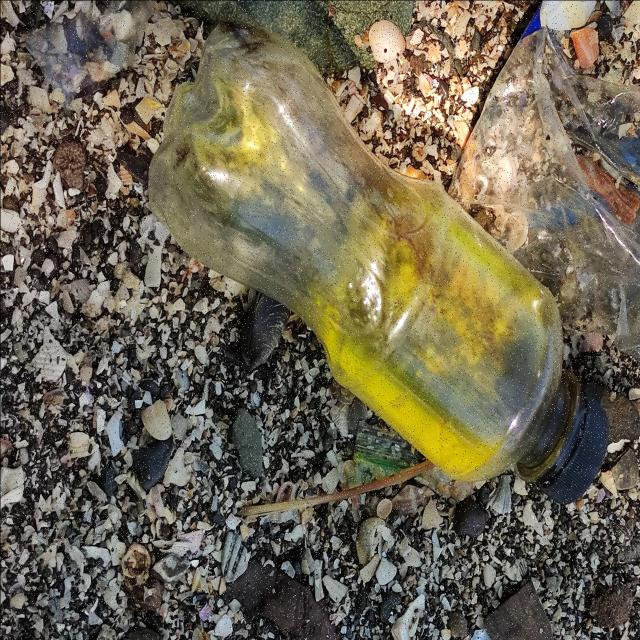plastic_waste: (146, 24, 613, 511)
